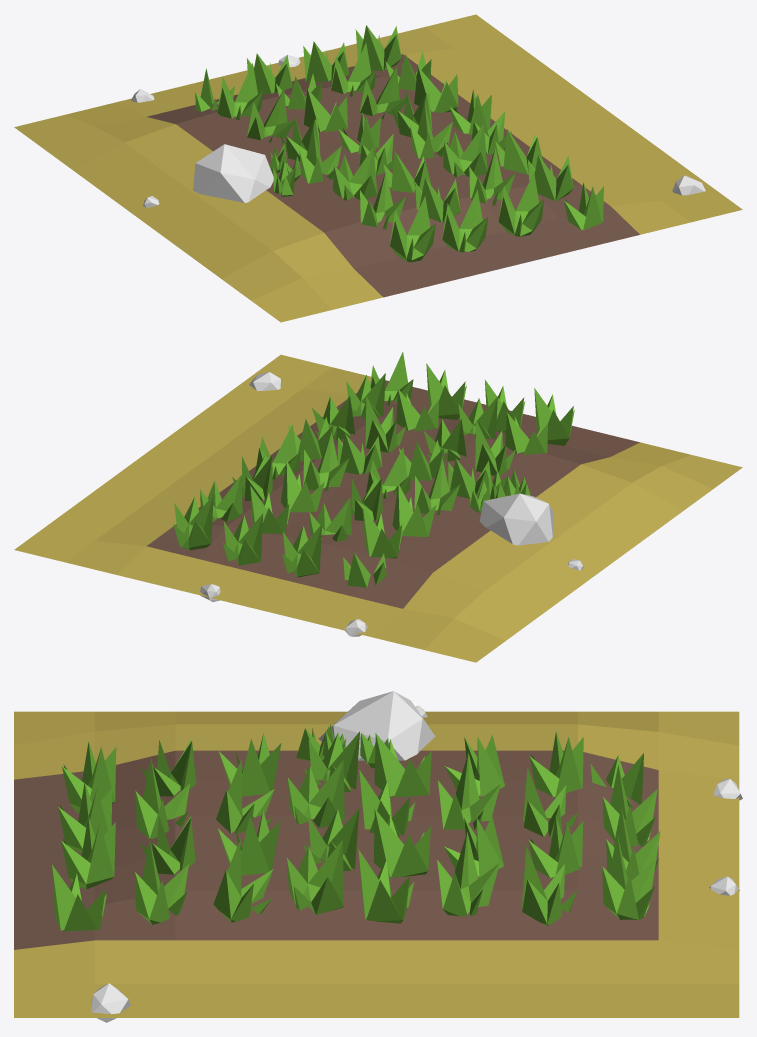
The model's file is sadzonki.fbx.
3 views of the same model, one above another, from view 1: azimuth 30°, elevation 25°; view 2: azimuth 150°, elevation 25°; view 3: azimuth 270°, elevation 25° (orthographic). The views are drawn at different scales.
Parts seen in each view (by area): view 1: Grid.001; view 2: Grid.001; view 3: Grid.001.
Part boxes in pixels (bbox=[...]): Grid.001: bbox=[14, 14, 742, 322]; Grid.001: bbox=[14, 352, 742, 662]; Grid.001: bbox=[14, 691, 742, 1022].
Size of the model in its own units: 1000 by 185 by 1005.
